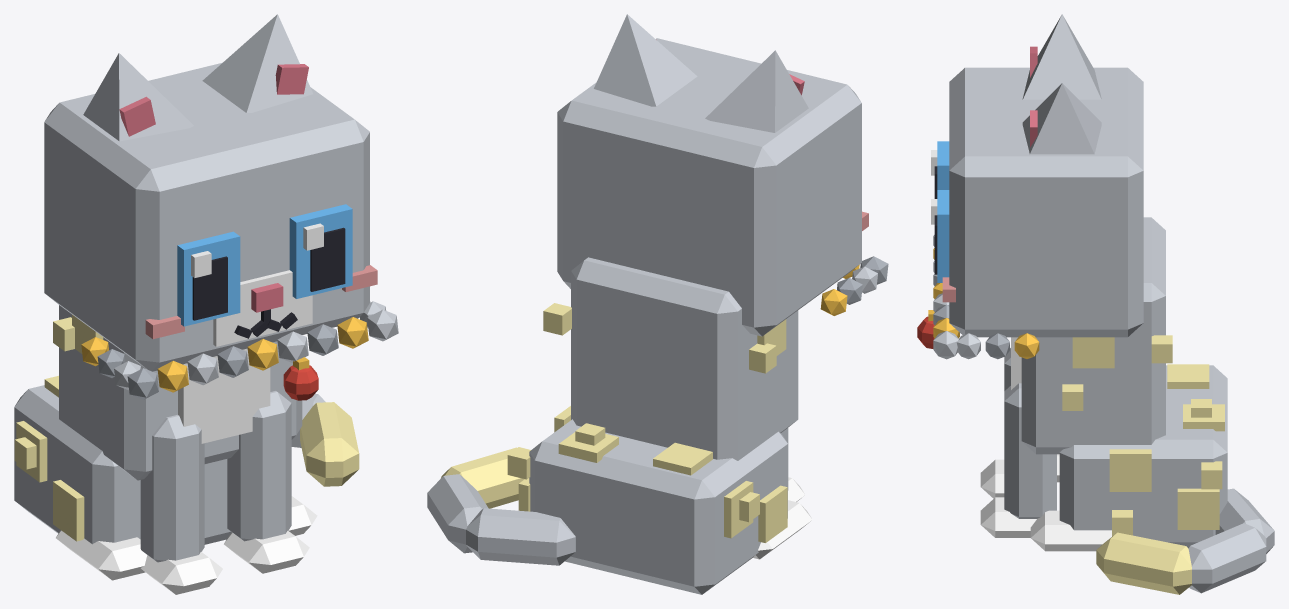
File: CatCafe_Cat_Tinsel_Sit.fbx
3 views of the same model, side by side, from view 1: azimuth 30°, elevation 25°; view 2: azimuth 150°, elevation 25°; view 3: azimuth 270°, elevation 25° (orthographic). The views are drawn at different scales.
Parts seen in each view (by area): view 1: CatCafe_Cat_Tinsel_Sit_Head, CatCafe_Cat_Tinsel_Sit_Body, CatCafe_Cat_Tinsel_Sit_LegF2, CatCafe_Cat_Tinsel_Sit_LegF1, CatCafe_Cat_Tinsel_Sit_Prop, CatCafe_Cat_Tinsel_Sit_EarL, CatCafe_Cat_Tinsel_Sit_Eye2, CatCafe_Cat_Tinsel_Sit_Eye1, CatCafe_Cat_Tinsel_Sit_EarR, CatCafe_Cat_Tinsel_Sit_Tail; view 2: CatCafe_Cat_Tinsel_Sit_Body, CatCafe_Cat_Tinsel_Sit_Head, CatCafe_Cat_Tinsel_Sit_Tail, CatCafe_Cat_Tinsel_Sit_EarL, CatCafe_Cat_Tinsel_Sit_EarR, CatCafe_Cat_Tinsel_Sit_Prop; view 3: CatCafe_Cat_Tinsel_Sit_Head, CatCafe_Cat_Tinsel_Sit_Body, CatCafe_Cat_Tinsel_Sit_Tail, CatCafe_Cat_Tinsel_Sit_LegF1, CatCafe_Cat_Tinsel_Sit_EarL, CatCafe_Cat_Tinsel_Sit_EarR, CatCafe_Cat_Tinsel_Sit_Prop, CatCafe_Cat_Tinsel_Sit_Eye1, CatCafe_Cat_Tinsel_Sit_LegF2, CatCafe_Cat_Tinsel_Sit_Eye2.
Boxes of the visible parts, <box> form: CatCafe_Cat_Tinsel_Sit_Head: <box>44,62,377,371</box>; CatCafe_Cat_Tinsel_Sit_Body: <box>14,305,317,580</box>; CatCafe_Cat_Tinsel_Sit_LegF2: <box>140,414,222,594</box>; CatCafe_Cat_Tinsel_Sit_LegF1: <box>224,391,309,573</box>; CatCafe_Cat_Tinsel_Sit_Prop: <box>81,301,398,400</box>; CatCafe_Cat_Tinsel_Sit_EarL: <box>202,14,313,112</box>; CatCafe_Cat_Tinsel_Sit_Eye2: <box>177,231,240,326</box>; CatCafe_Cat_Tinsel_Sit_Eye1: <box>289,204,352,298</box>; CatCafe_Cat_Tinsel_Sit_EarR: <box>83,53,193,141</box>; CatCafe_Cat_Tinsel_Sit_Tail: <box>291,393,359,486</box>; CatCafe_Cat_Tinsel_Sit_Body: <box>507,257,812,594</box>; CatCafe_Cat_Tinsel_Sit_Head: <box>557,38,868,336</box>; CatCafe_Cat_Tinsel_Sit_Tail: <box>427,447,575,565</box>; CatCafe_Cat_Tinsel_Sit_EarL: <box>594,14,697,106</box>; CatCafe_Cat_Tinsel_Sit_EarR: <box>705,50,808,132</box>; CatCafe_Cat_Tinsel_Sit_Prop: <box>820,256,888,315</box>; CatCafe_Cat_Tinsel_Sit_Head: <box>942,67,1143,337</box>; CatCafe_Cat_Tinsel_Sit_Body: <box>1011,217,1227,551</box>; CatCafe_Cat_Tinsel_Sit_Tail: <box>1096,488,1274,594</box>; CatCafe_Cat_Tinsel_Sit_LegF1: <box>980,383,1056,537</box>; CatCafe_Cat_Tinsel_Sit_EarL: <box>1022,83,1101,154</box>; CatCafe_Cat_Tinsel_Sit_EarR: <box>1022,14,1101,99</box>; CatCafe_Cat_Tinsel_Sit_Prop: <box>917,235,1039,359</box>; CatCafe_Cat_Tinsel_Sit_Eye1: <box>931,190,949,282</box>; CatCafe_Cat_Tinsel_Sit_LegF2: <box>980,348,1010,498</box>; CatCafe_Cat_Tinsel_Sit_Eye2: <box>931,141,949,198</box>.
Size of the model in its own units: 1.31 by 1.85 by 1.29.
Materials: 1 (1 with a texture image).
